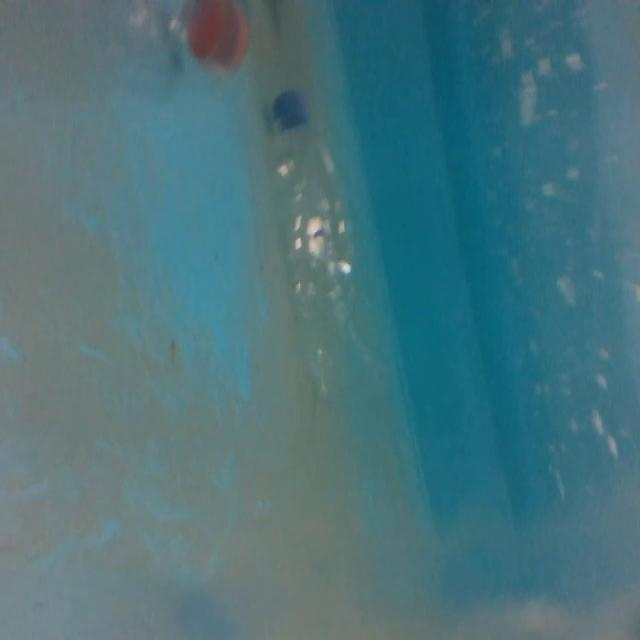plastic bottle: (261, 82, 397, 421)
